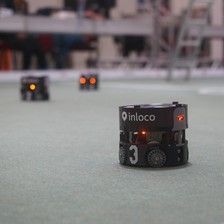robot: (114, 98, 193, 172), (17, 71, 51, 103), (75, 70, 100, 92)
